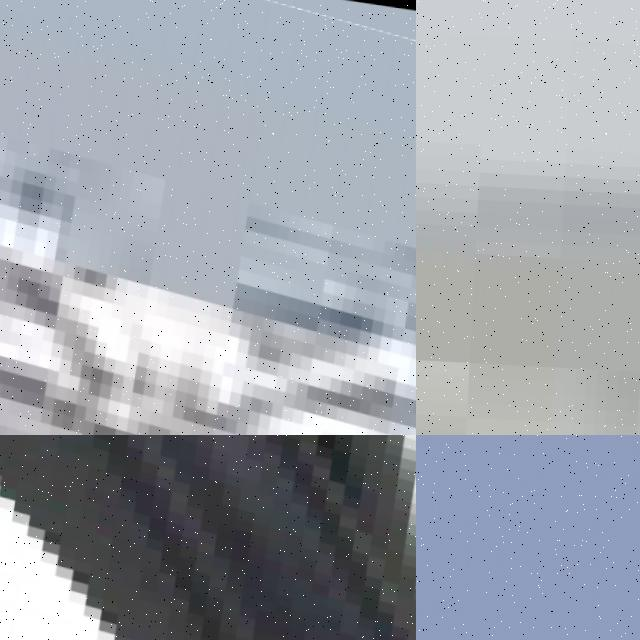drone: (0, 0, 416, 435), (0, 435, 416, 640)
